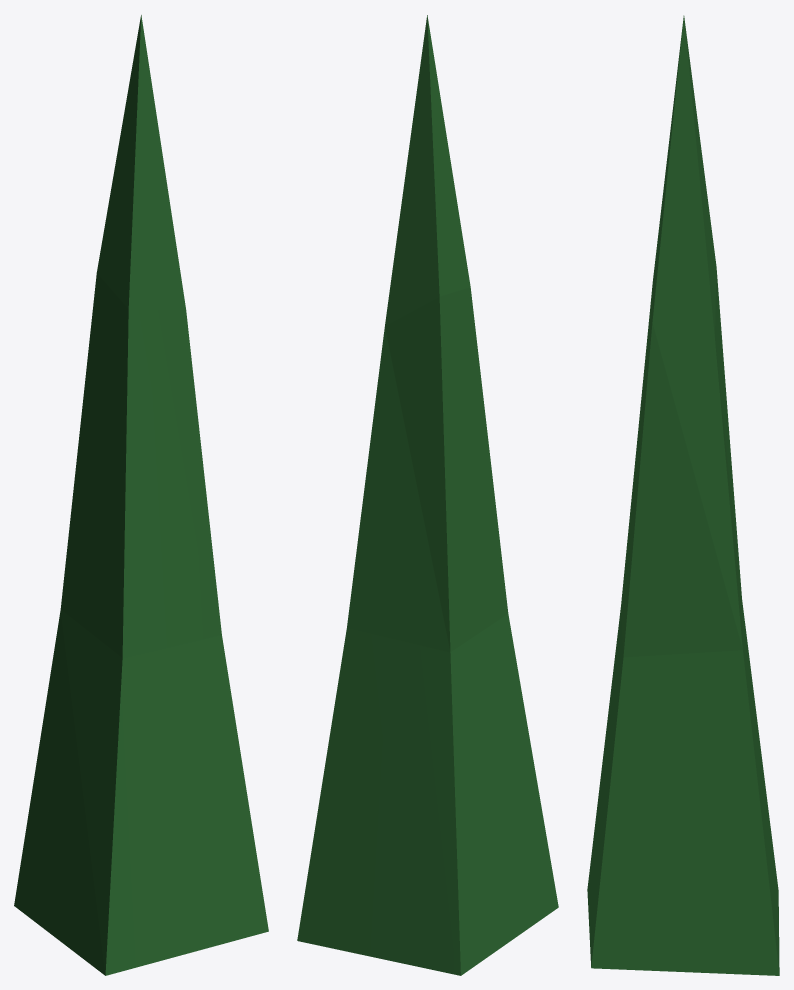
The model's file is tree-pyramid.glb.
The picture shows the model from 3 angles, left to right: view 1: azimuth 30°, elevation 25°; view 2: azimuth 150°, elevation 25°; view 3: azimuth 270°, elevation 25°; orthographic projection.
Parts seen in each view (by area): view 1: tree-pyramid; view 2: tree-pyramid; view 3: tree-pyramid.
Part boxes in pixels (<box>): tree-pyramid: <box>14,15,268,975</box>; tree-pyramid: <box>297,15,558,975</box>; tree-pyramid: <box>587,15,779,975</box>.
Size of the model in its own units: 1.42 by 7.43 by 1.41.
1 material, 1 textured.
